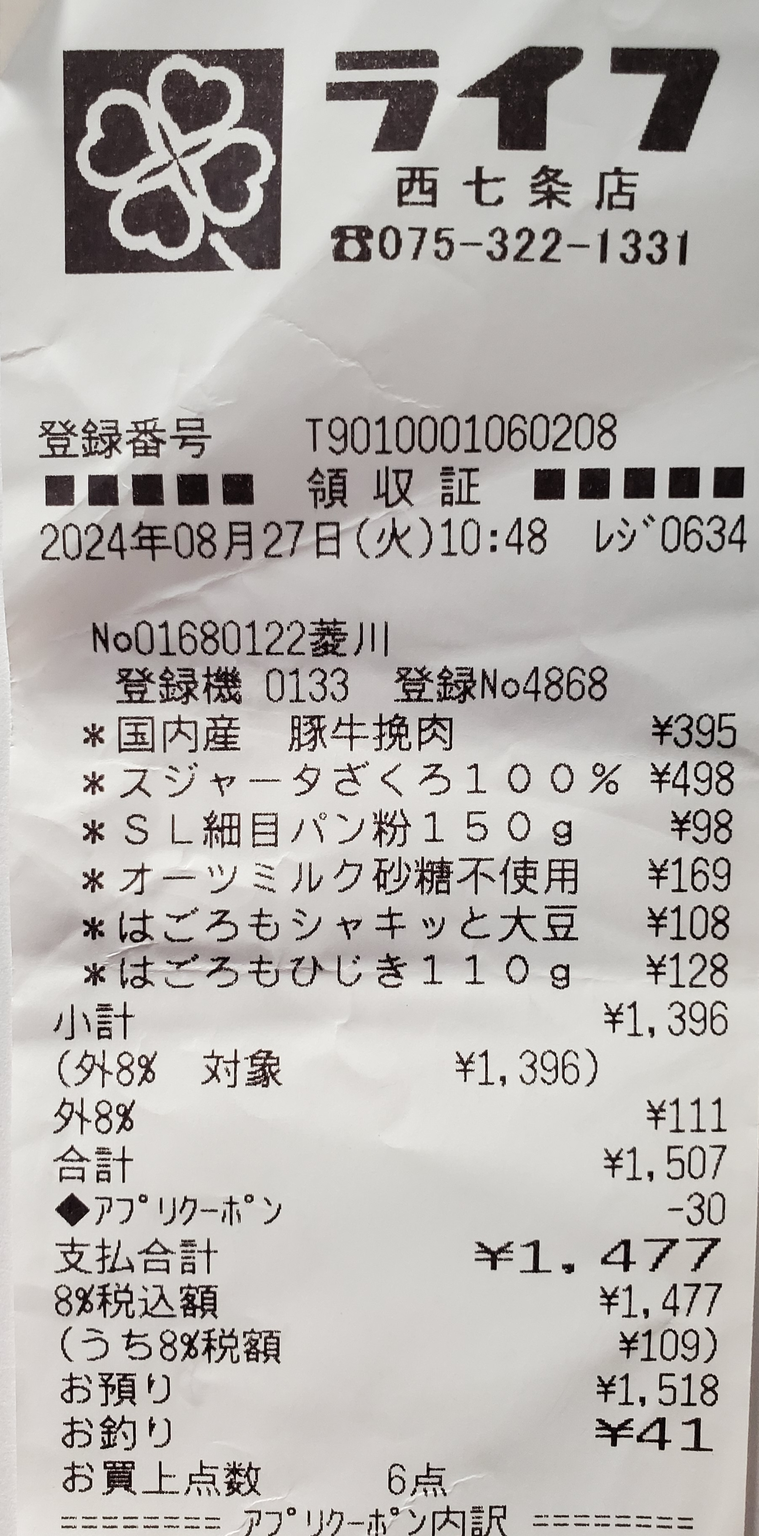Date: (38, 514, 356, 565)
Shopname: (314, 27, 747, 160)
Telnum: (369, 216, 724, 273)
Totalpay: (54, 1233, 731, 1282)
